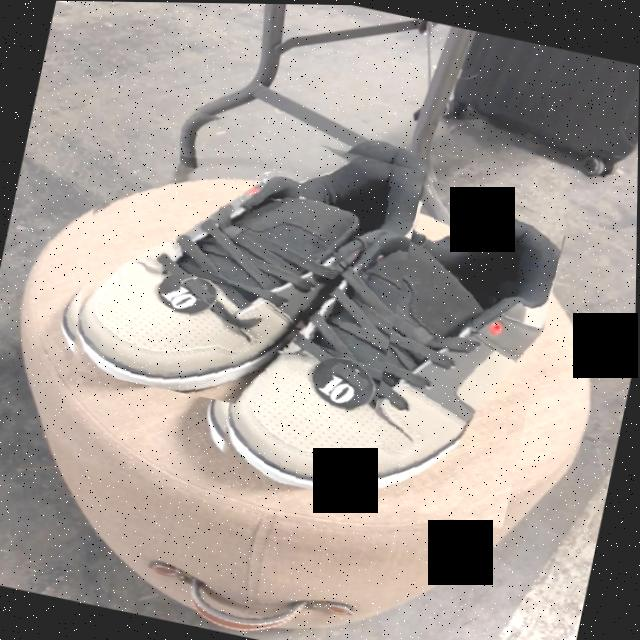shoe: (225, 170, 562, 494), (75, 155, 423, 390)
